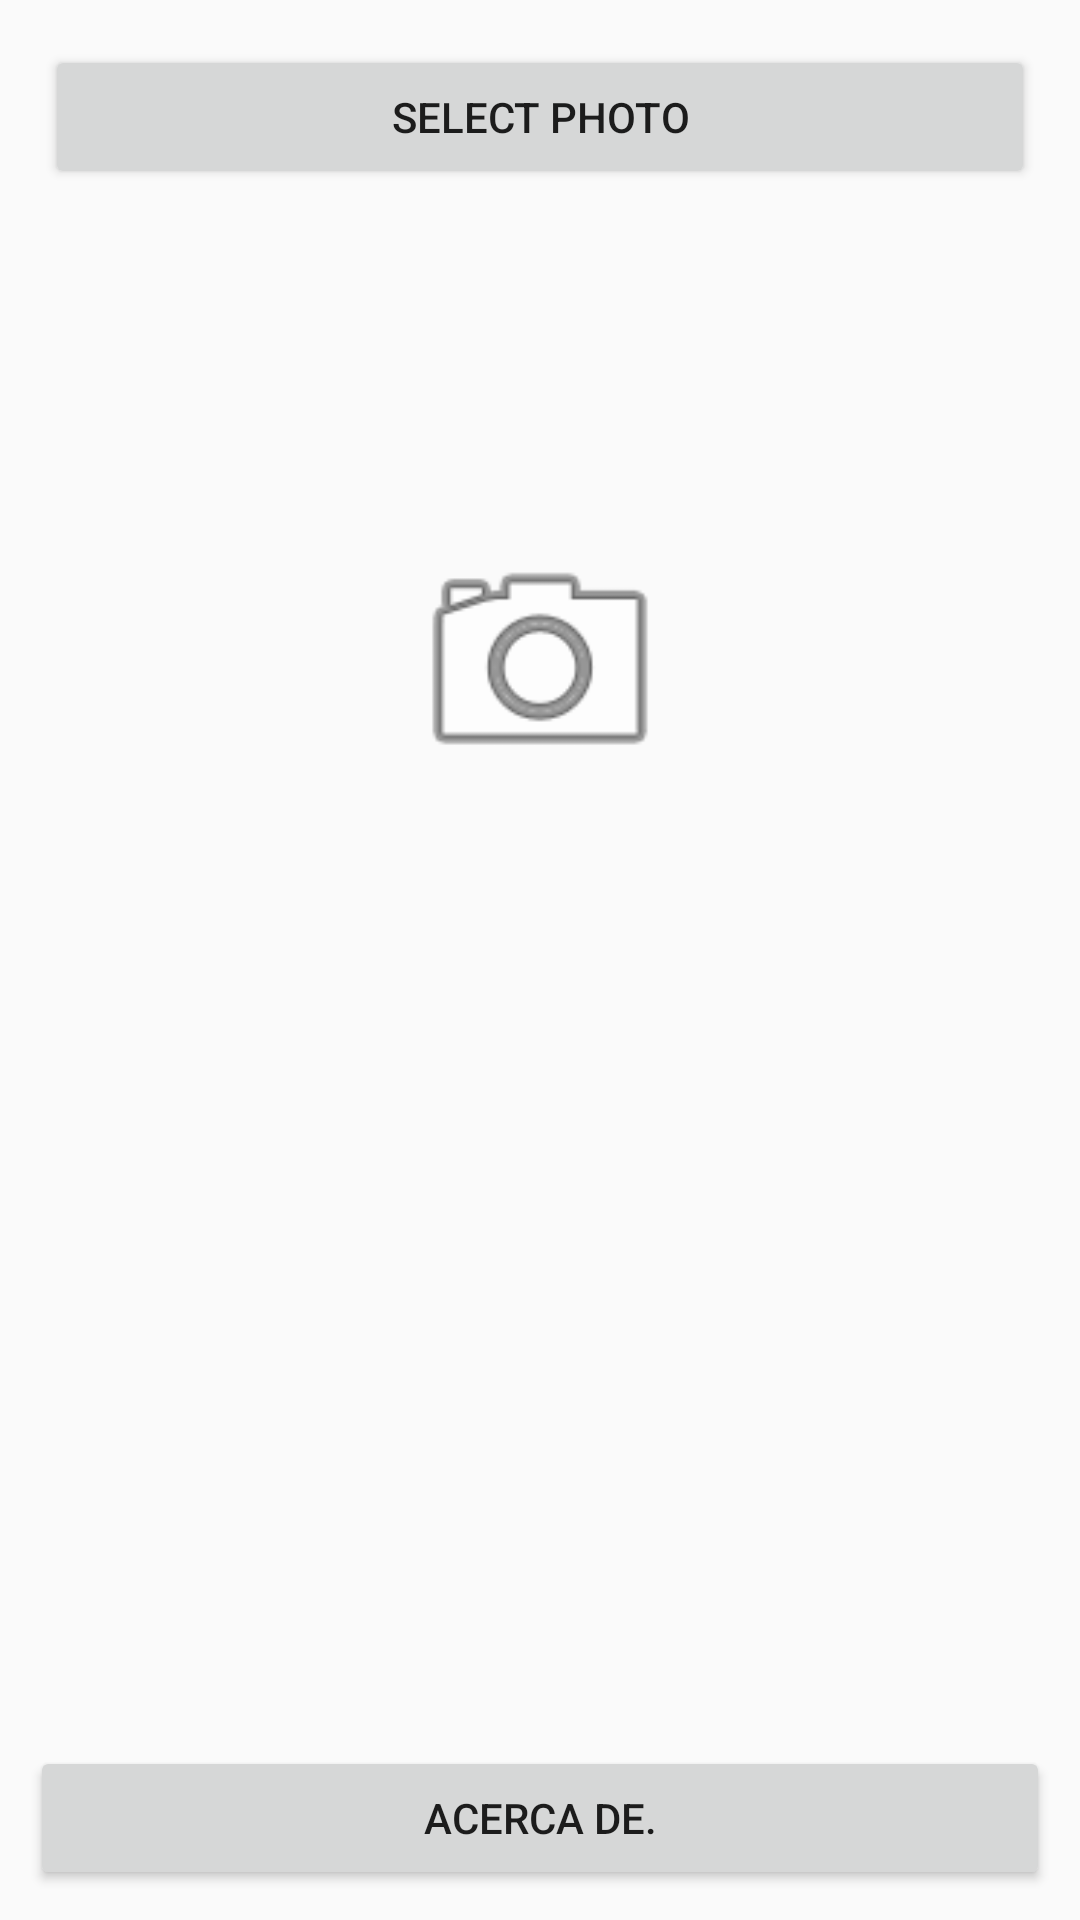

Point at icon controls on the screen. Image size 1080 x 1920, points as (x=x, y=y).
camera: (x=540, y=658)
